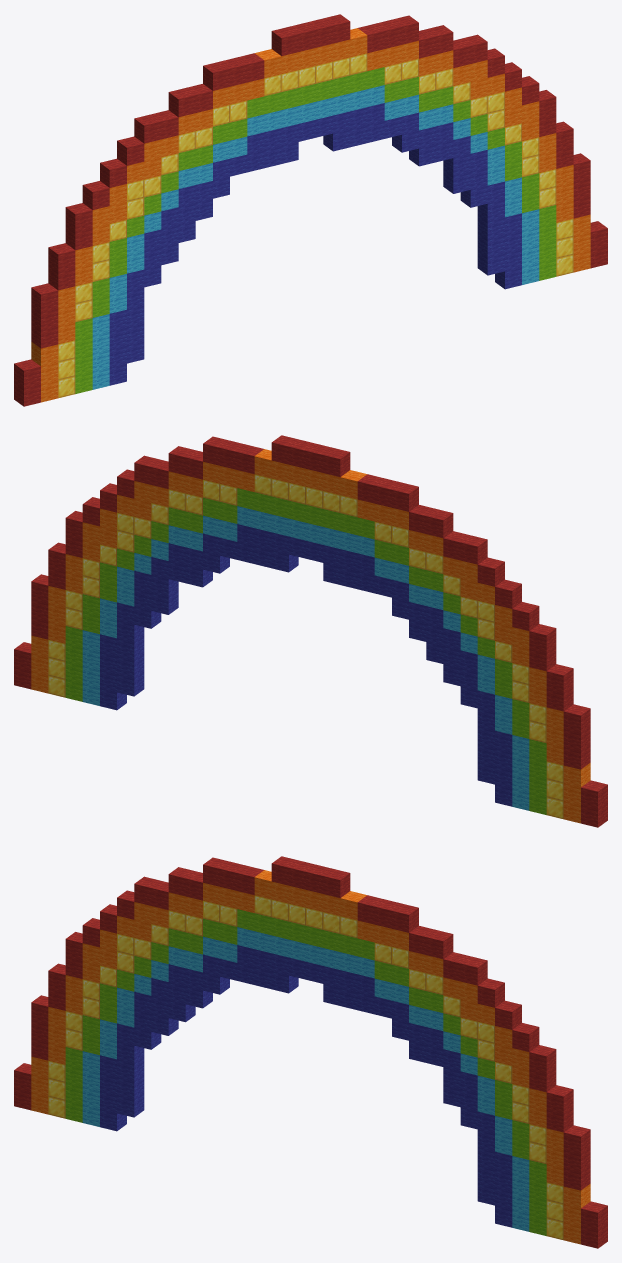
The model's file is Mineways2Skfb.obj.
The picture shows the model from 3 angles, top to bottom: view 1: azimuth 30°, elevation 25°; view 2: azimuth 150°, elevation 25°; view 3: azimuth 330°, elevation 25°; orthographic projection.
Parts seen in each view (by area): view 1: Wool, Block_of_Gold; view 2: Wool, Block_of_Gold; view 3: Wool, Block_of_Gold.
Part boxes in pixels (box(x1,y1,x2,y2)): Wool: box(14, 14, 607, 406); Block_of_Gold: box(58, 53, 573, 398); Wool: box(14, 435, 607, 827); Block_of_Gold: box(48, 474, 563, 819); Wool: box(14, 856, 607, 1248); Block_of_Gold: box(48, 895, 563, 1240).
Bounding box in the file's own units: 2 × 1 × 0.0588.
Materials: 2 (2 with a texture image).
